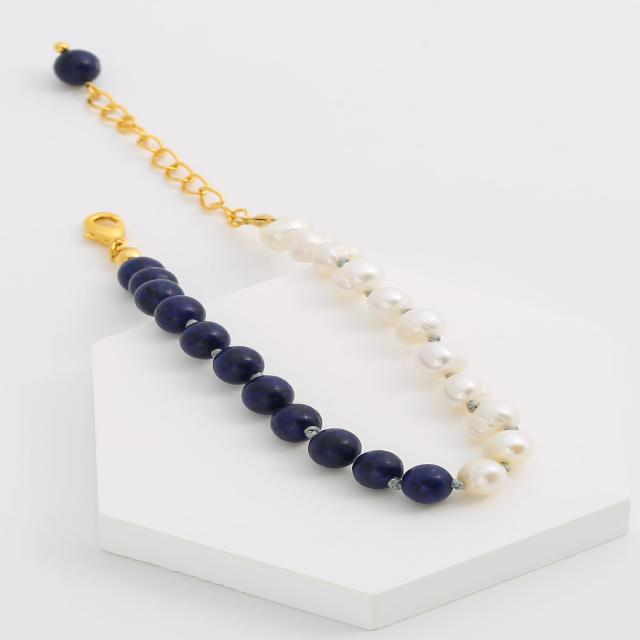bracelet: (0, 2, 606, 572)
